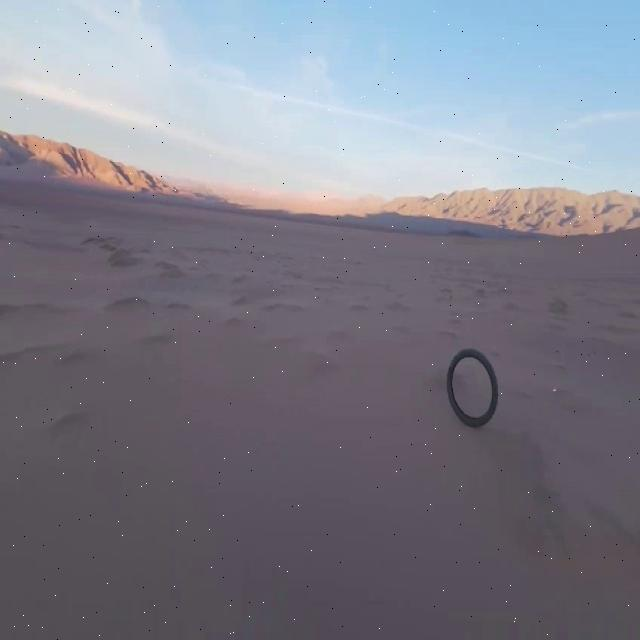Tire: (448, 348, 497, 427)
